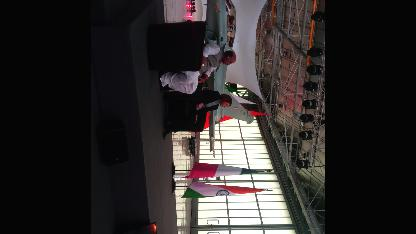RQ4: (187, 0, 255, 158)
